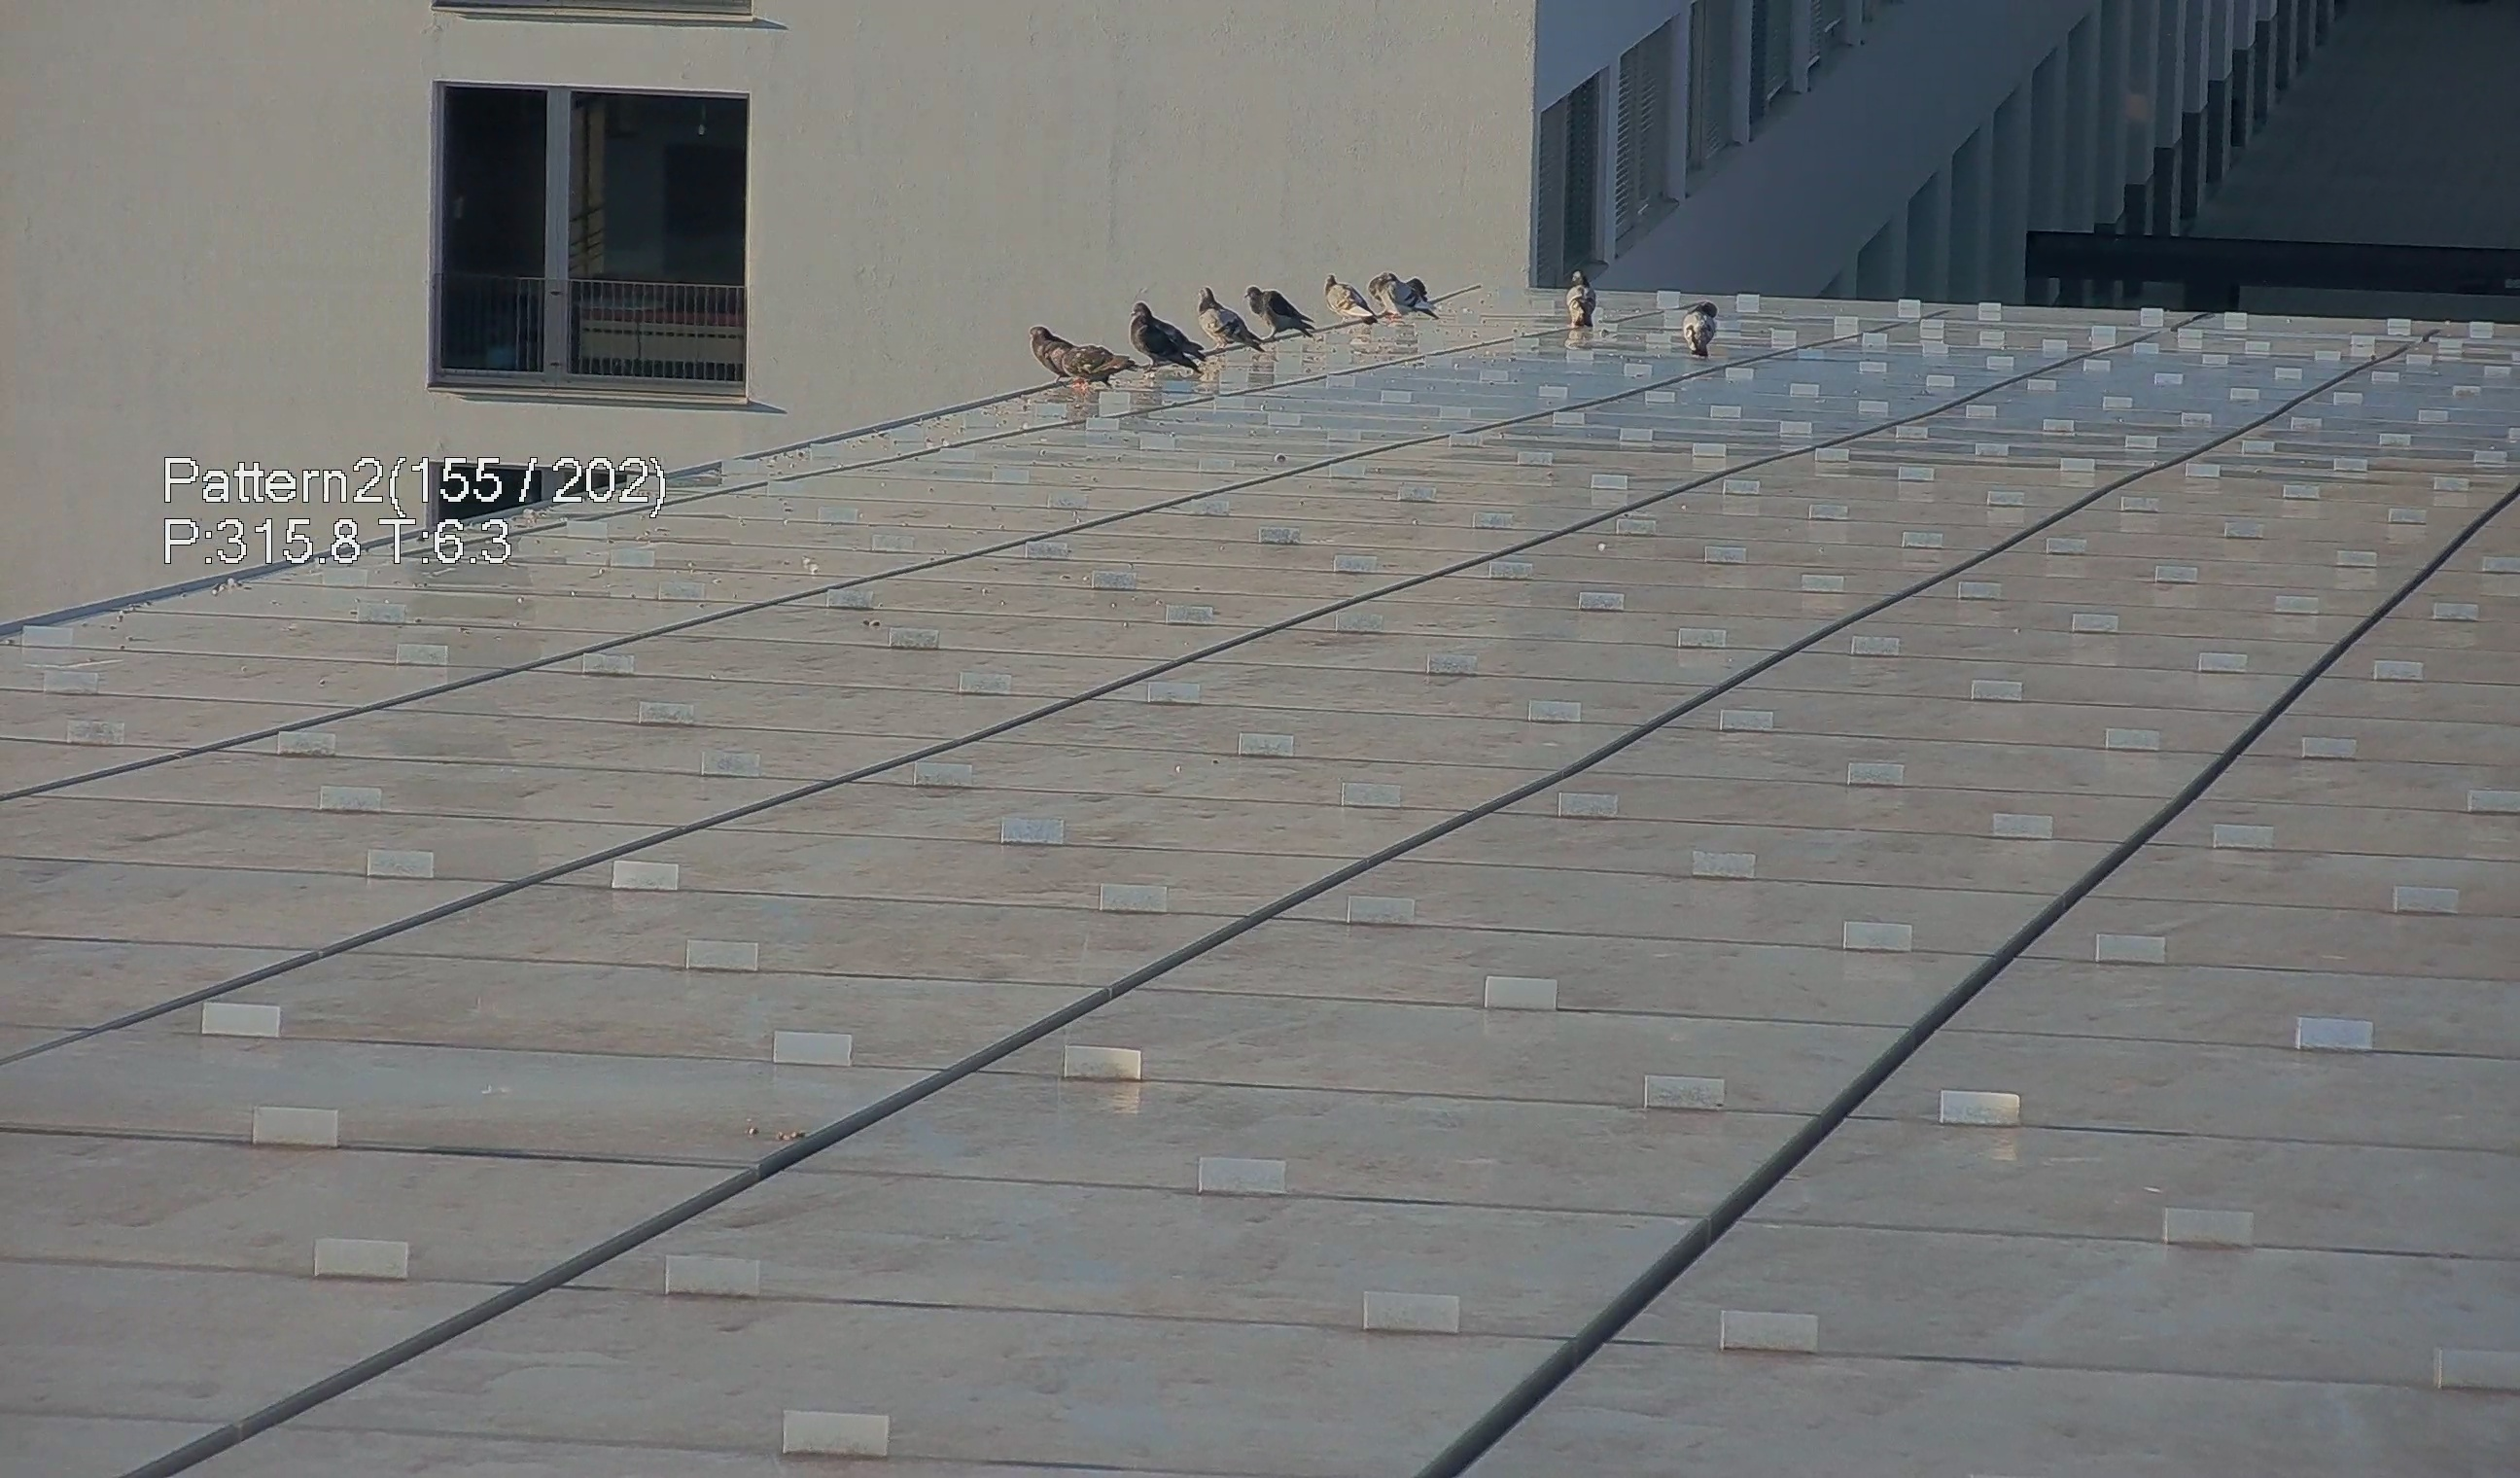Pigeon: (1129, 299, 1208, 382), (1194, 283, 1266, 359), (1366, 262, 1442, 322), (1245, 283, 1317, 345), (1048, 347, 1134, 387), (1324, 273, 1377, 331), (1678, 299, 1723, 357), (1029, 322, 1071, 369), (1569, 266, 1599, 331)
